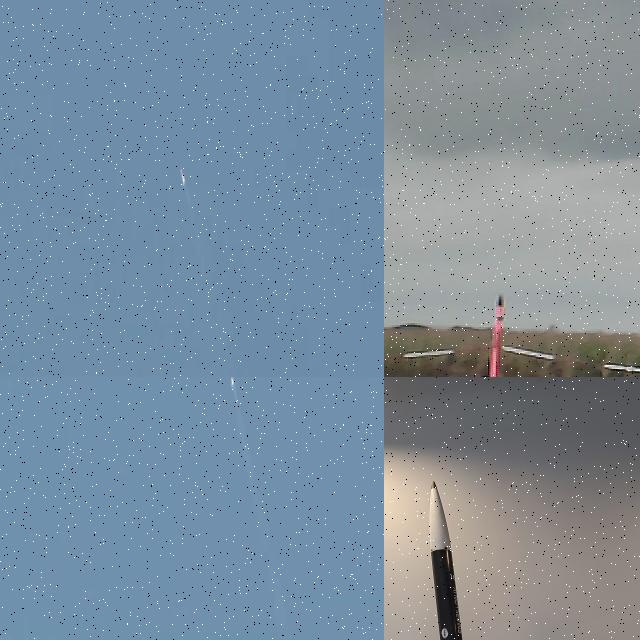Rocket: (429, 481, 463, 640), (477, 292, 509, 377), (181, 170, 185, 183), (231, 377, 234, 386)
